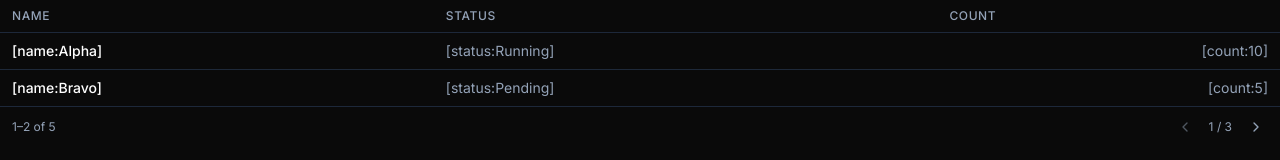
Scenario: TableVisualization › sorting › resets to first page after sorting
Go to page 2 using the last button (next)
What coordinates should you click on to do the following:
click the 2nd button
I would click on:
 (1256, 127)
Its box is [1244,115,1268,139].
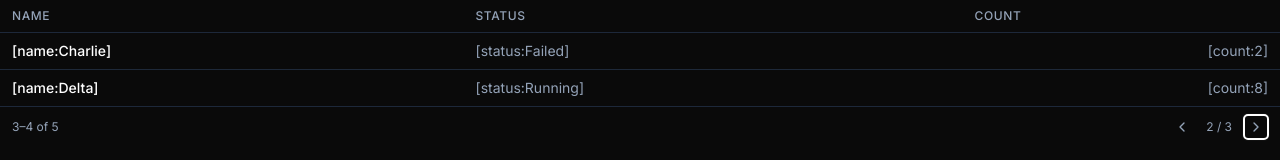
What coordinates should you click on to do the following:
click the text "Name"
I would click on:
 (31, 16)
Its box is [12,8,50,24].
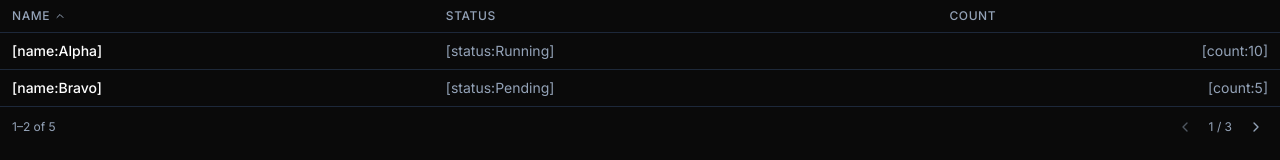
Expected: the text "1–2 of 5" is shown, [12,119,56,135]
